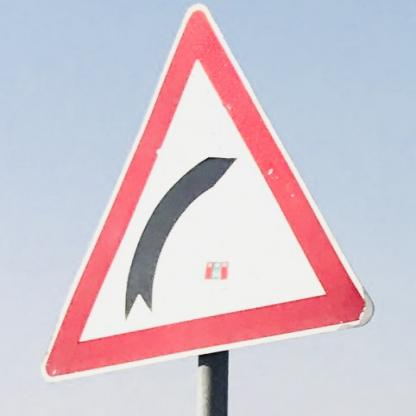Right bend: (43, 3, 378, 383)
